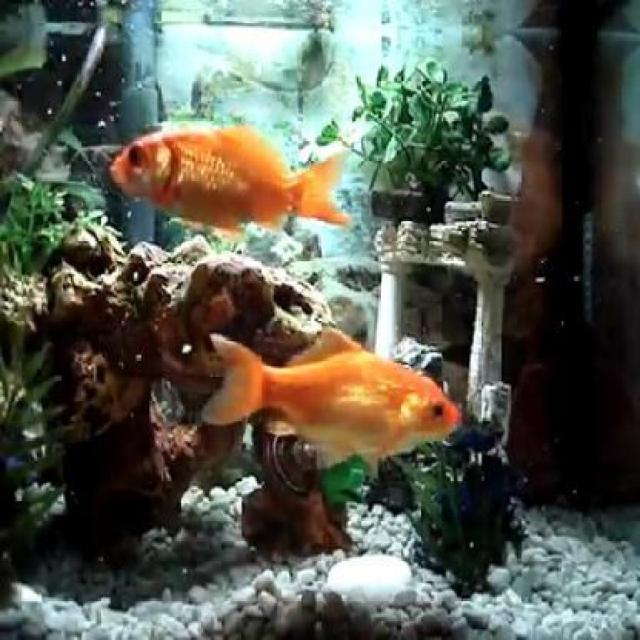GoldFish: (205, 327, 460, 473), (109, 114, 349, 240)
